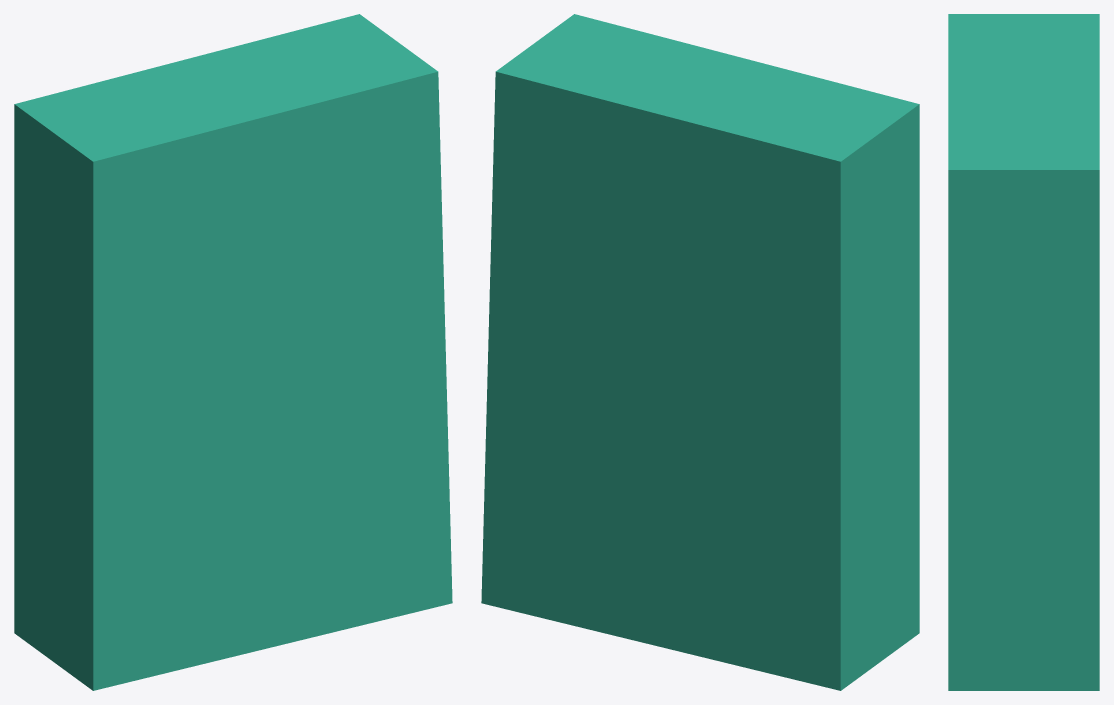
The picture shows the model from 3 angles, left to right: view 1: azimuth 30°, elevation 25°; view 2: azimuth 150°, elevation 25°; view 3: azimuth 270°, elevation 25°; orthographic projection. The views are drawn at different scales.
Visible parts, largest first — view 1: geometry_0; view 2: geometry_0; view 3: geometry_0.
Part boxes in pixels (x1=…): geometry_0: x1=14, y1=14, x2=452, y2=690; geometry_0: x1=481, y1=14, x2=919, y2=690; geometry_0: x1=948, y1=14, x2=1099, y2=690.
Size of the model in its own units: 7.91 by 11.25 by 3.
